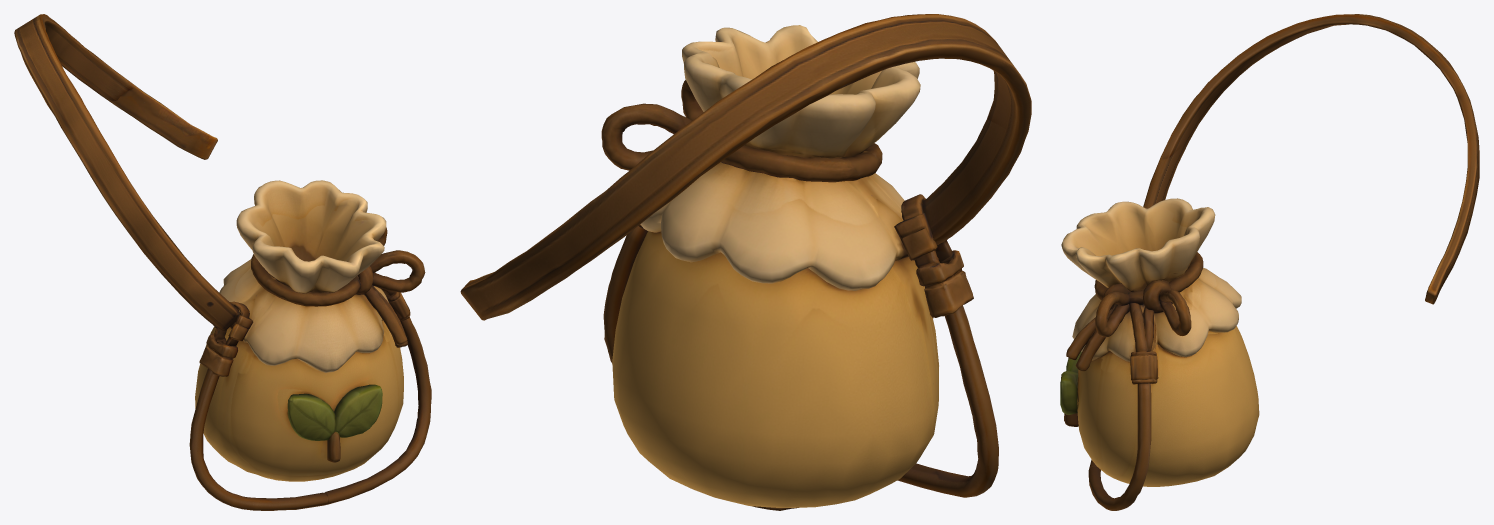
File: mem_ac_pouch.fbx
3 views of the same model, side by side, from view 1: azimuth 30°, elevation 25°; view 2: azimuth 150°, elevation 25°; view 3: azimuth 270°, elevation 25° (orthographic). The views are drawn at different scales.
Parts seen in each view (by area): view 1: tripo_node_ee25dd8e-500a-49ef-ad10-a5996c82e410; view 2: tripo_node_ee25dd8e-500a-49ef-ad10-a5996c82e410; view 3: tripo_node_ee25dd8e-500a-49ef-ad10-a5996c82e410.
Boxes of the visible parts, x1,y1,x2,y2 form: tripo_node_ee25dd8e-500a-49ef-ad10-a5996c82e410: [14, 14, 431, 510]; tripo_node_ee25dd8e-500a-49ef-ad10-a5996c82e410: [460, 14, 1031, 510]; tripo_node_ee25dd8e-500a-49ef-ad10-a5996c82e410: [1060, 14, 1479, 510].
Bounding box in the file's own units: 0.7871 × 0.998 × 0.9629.
1 material, 1 textured.
